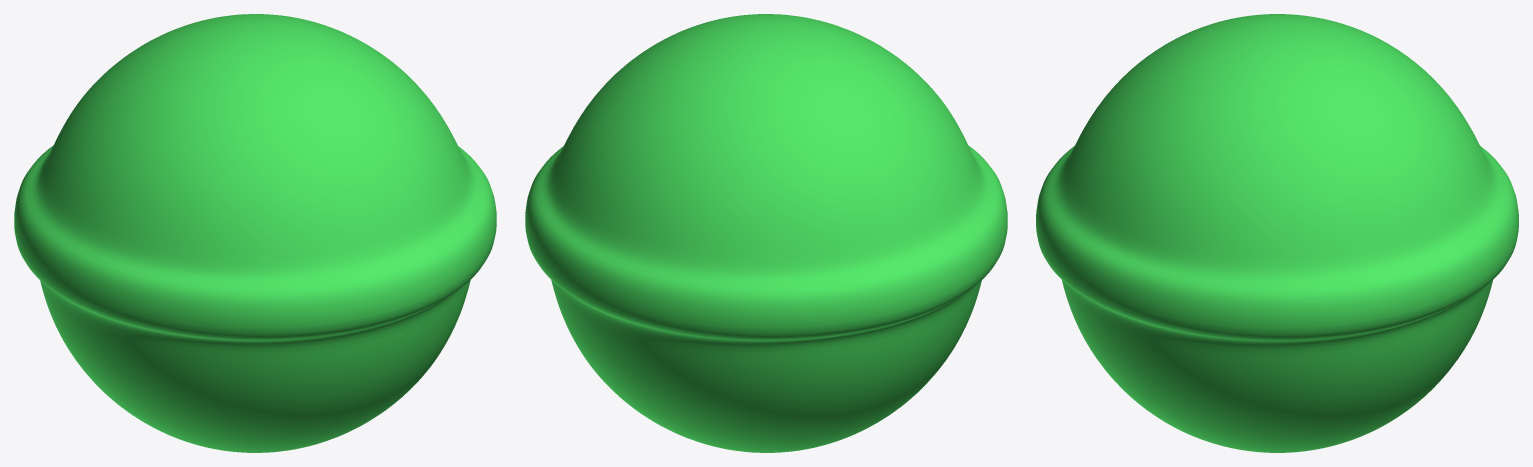
File: Candy 06.fbx
The picture shows the model from 3 angles, left to right: view 1: azimuth 30°, elevation 25°; view 2: azimuth 150°, elevation 25°; view 3: azimuth 270°, elevation 25°; orthographic projection.
Parts seen in each view (by area): view 1: Candy_06; view 2: Candy_06; view 3: Candy_06.
Part boxes in pixels (bbox=[...]): Candy_06: bbox=[14, 14, 496, 452]; Candy_06: bbox=[525, 14, 1007, 452]; Candy_06: bbox=[1036, 14, 1518, 452].
Bounding box in the file's own units: 22 × 20 × 22.
